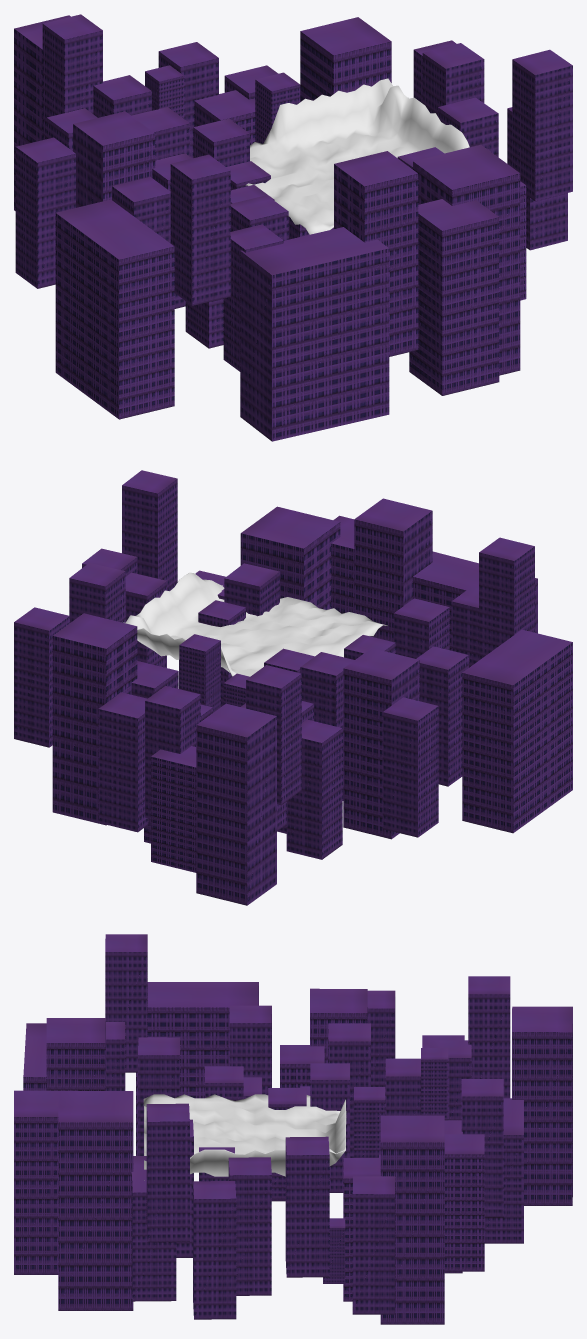
Rendered from terreno (3).fbx.
The picture shows the model from 3 angles, top to bottom: view 1: azimuth 30°, elevation 25°; view 2: azimuth 150°, elevation 25°; view 3: azimuth 270°, elevation 25°; orthographic projection. The views are drawn at different scales.
Visible parts, largest first — view 1: Cube.022, Cube.018, Plane, Cube.023, Cube.013, Cube.061, Cube.015, Cube.009, Cube.019, Cube.165, Cube.002, Cube.003 (+21 smaller); view 2: Cube.018, Cube.021, Cube.165, Plane, Cube.002, Cube.013, Cube.019, Cube.061, Cube.004, Cube.156, Cube.015, Cube.009 (+20 smaller); view 3: Cube.061, Cube.165, Cube.021, Plane, Cube.023, Cube.018, Cube.007, Cube.009, Cube.010, Cube.020, Cube.156, Cube.008 (+24 smaller).
Part boxes in pixels (x1=…): Cube.022: x1=240, y1=227, x2=389, y2=441; Cube.018: x1=55, y1=199, x2=174, y2=419; Plane: x1=245, y1=78, x2=469, y2=234; Cube.023: x1=409, y1=199, x2=499, y2=395; Cube.013: x1=334, y1=151, x2=418, y2=356; Cube.061: x1=413, y1=144, x2=520, y2=375; Cube.015: x1=170, y1=154, x2=230, y2=305; Cube.009: x1=512, y1=49, x2=572, y2=201; Cube.019: x1=15, y1=137, x2=75, y2=288; Cube.165: x1=300, y1=17, x2=391, y2=101; Cube.002: x1=73, y1=111, x2=155, y2=207; Cube.003: x1=42, y1=14, x2=102, y2=139; Cube.018: x1=462, y1=629, x2=572, y2=833; Cube.021: x1=196, y1=703, x2=276, y2=905; Cube.165: x1=52, y1=613, x2=137, y2=825; Plane: x1=123, y1=572, x2=387, y2=676; Cube.002: x1=343, y1=648, x2=419, y2=839; Cube.013: x1=354, y1=498, x2=432, y2=641; Cube.019: x1=382, y1=697, x2=438, y2=837; Cube.061: x1=240, y1=506, x2=340, y2=609; Cube.004: x1=286, y1=719, x2=342, y2=859; Cube.156: x1=98, y1=692, x2=148, y2=832; Cube.015: x1=479, y1=537, x2=534, y2=660; Cube.009: x1=122, y1=470, x2=177, y2=590; Cube.061: x1=58, y1=1091, x2=133, y2=1310; Cube.165: x1=380, y1=1115, x2=444, y2=1324; Cube.021: x1=512, y1=1006, x2=572, y2=1205; Plane: x1=143, y1=1094, x2=346, y2=1180; Cube.023: x1=14, y1=1090, x2=76, y2=1274; Cube.018: x1=136, y1=982, x2=258, y2=1155; Cube.007: x1=285, y1=1136, x2=329, y2=1277; Cube.009: x1=146, y1=1103, x2=189, y2=1242; Cube.010: x1=193, y1=1181, x2=236, y2=1319; Cube.020: x1=352, y1=1176, x2=395, y2=1314; Cube.156: x1=444, y1=1134, x2=484, y2=1271; Cube.008: x1=228, y1=1157, x2=271, y2=1295.
Size of the model in its own units: 5424 by 2666 by 5737.
Materials: 1 (1 with a texture image).
